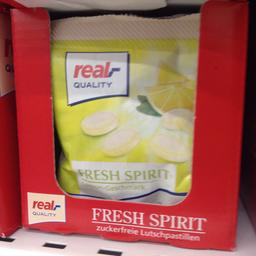candy: (52, 16, 196, 202)
